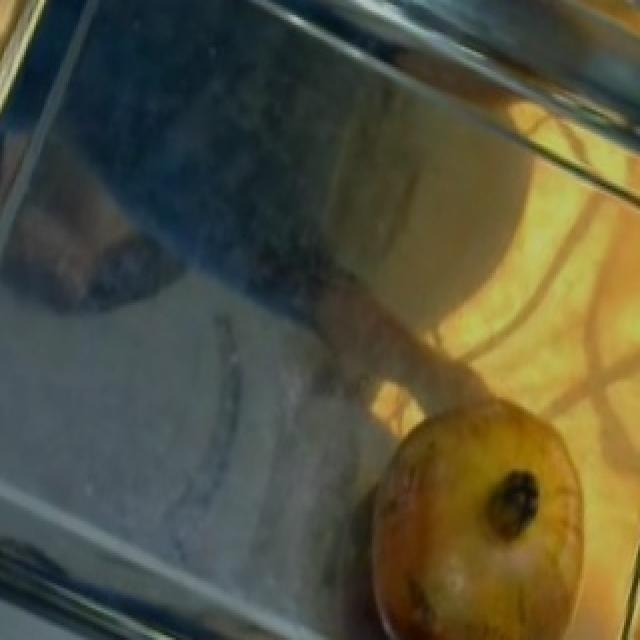fruit: (336, 372, 622, 635)
